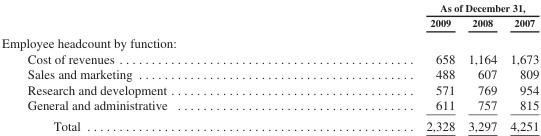table: (0, 1, 538, 132)
table column: (0, 1, 296, 132), (296, 1, 460, 132), (460, 1, 502, 132), (502, 1, 538, 132)
table column header: (0, 1, 538, 31)
table projected row header: (0, 31, 538, 50)
table row: (0, 31, 538, 50), (0, 96, 538, 114), (0, 114, 538, 132), (0, 14, 538, 31), (0, 65, 538, 81), (0, 50, 538, 65), (0, 81, 538, 96), (0, 1, 538, 14)
table spanning cell: (296, 1, 538, 14)
